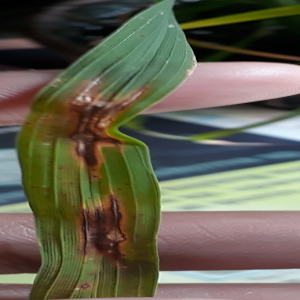Rice_Blast: (64, 184, 133, 262), (66, 77, 114, 131), (60, 124, 106, 174)
